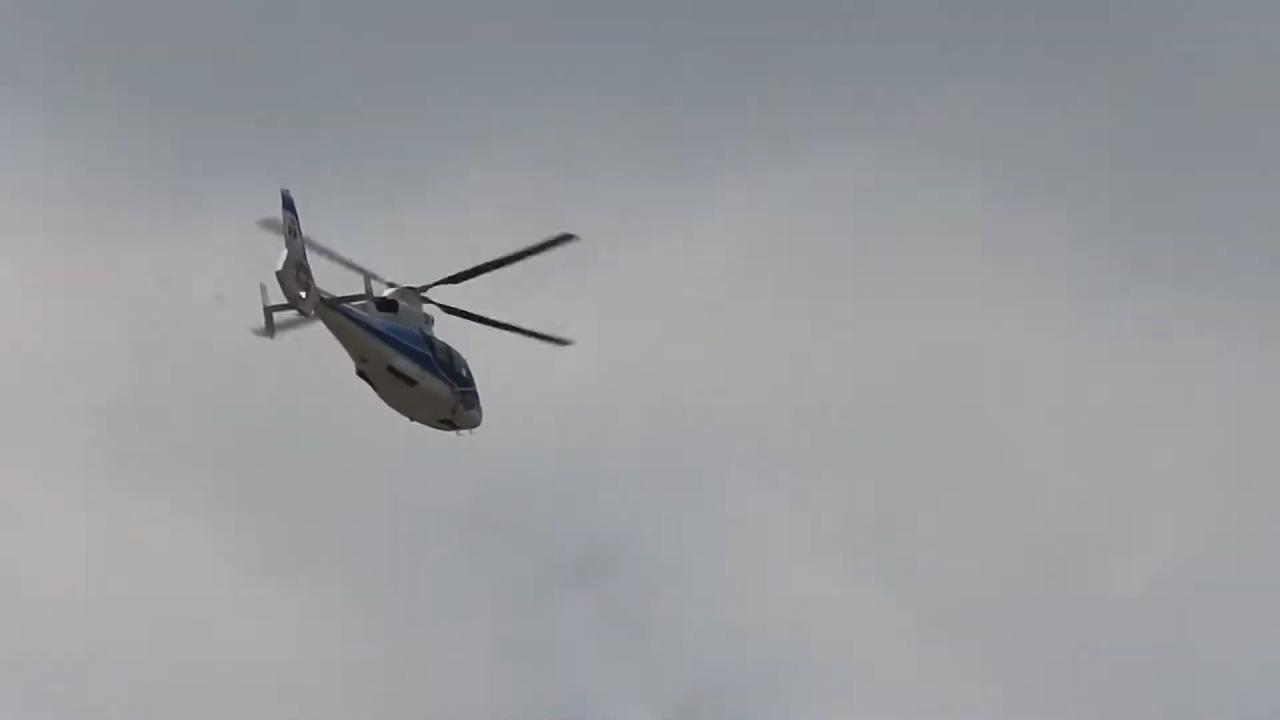Helicopter: (194, 169, 617, 469)
